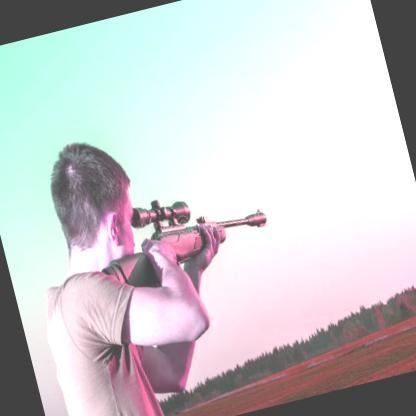rifle: (87, 170, 276, 293)
